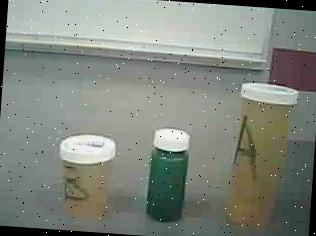Bottle A: (220, 75, 301, 236)
Bottle B: (50, 126, 120, 226)
Bottle C: (134, 123, 201, 230)
